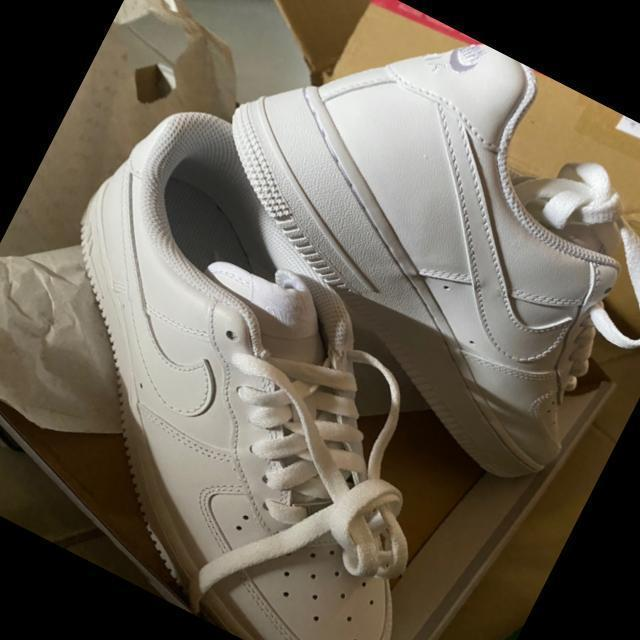nike original air force: (0, 75, 570, 640), (141, 0, 640, 514)
